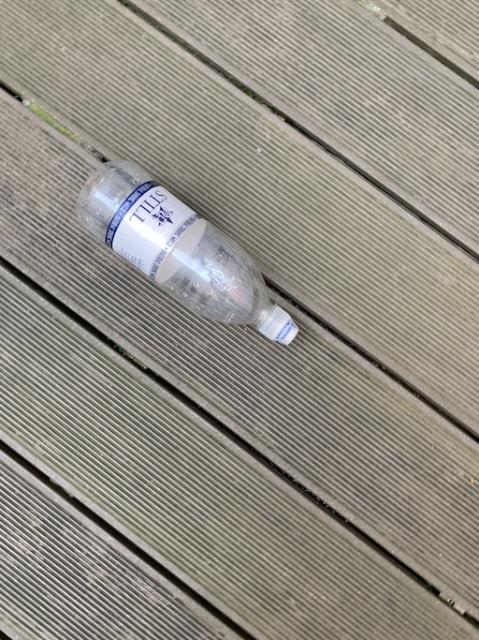plastic: (76, 160, 297, 343)
